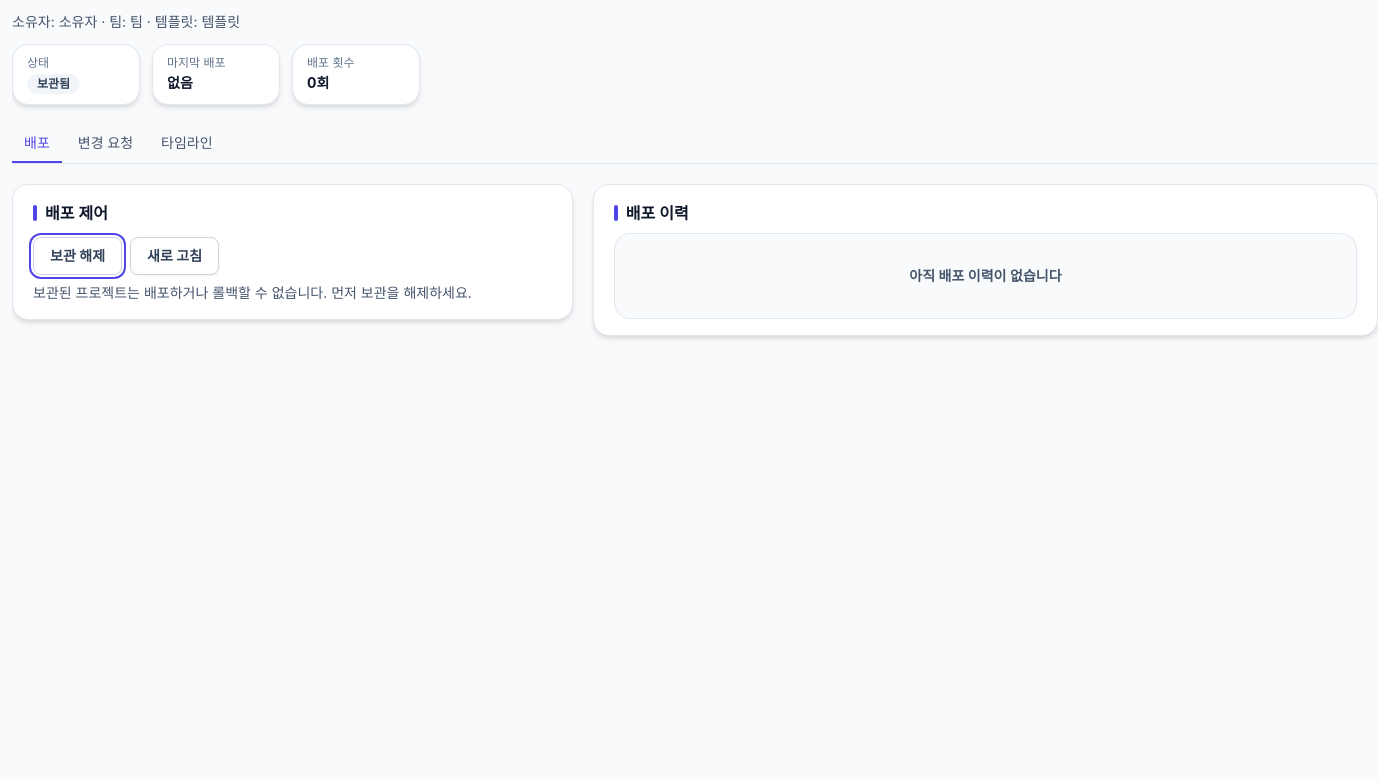
Test: an open confirmation does not outlive the control › a re-read that shows the project un-archived closes it for good: a later archive does not bring it back
The image size is (1378, 780).
Press Enter
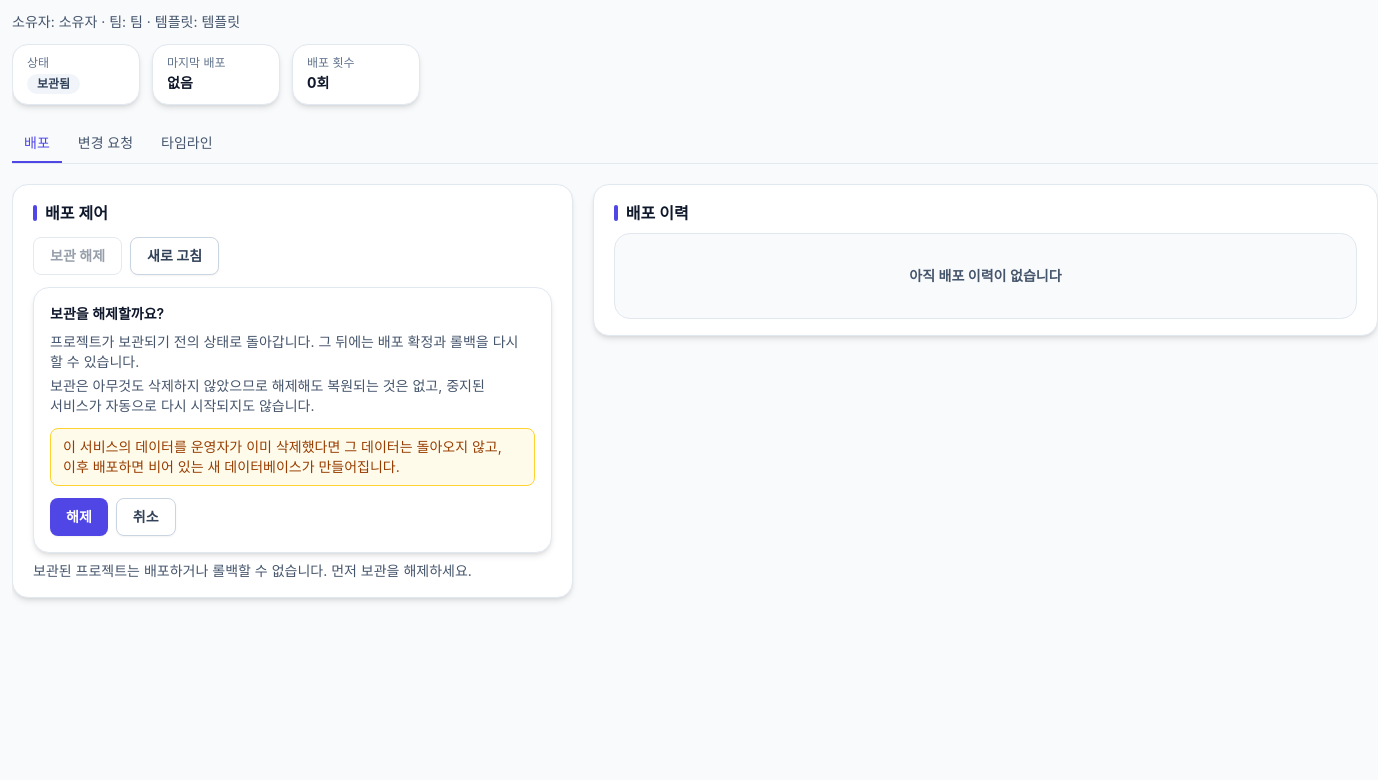
Click the button "새로 고침". click: (175, 256)
box: [130, 237, 219, 275]
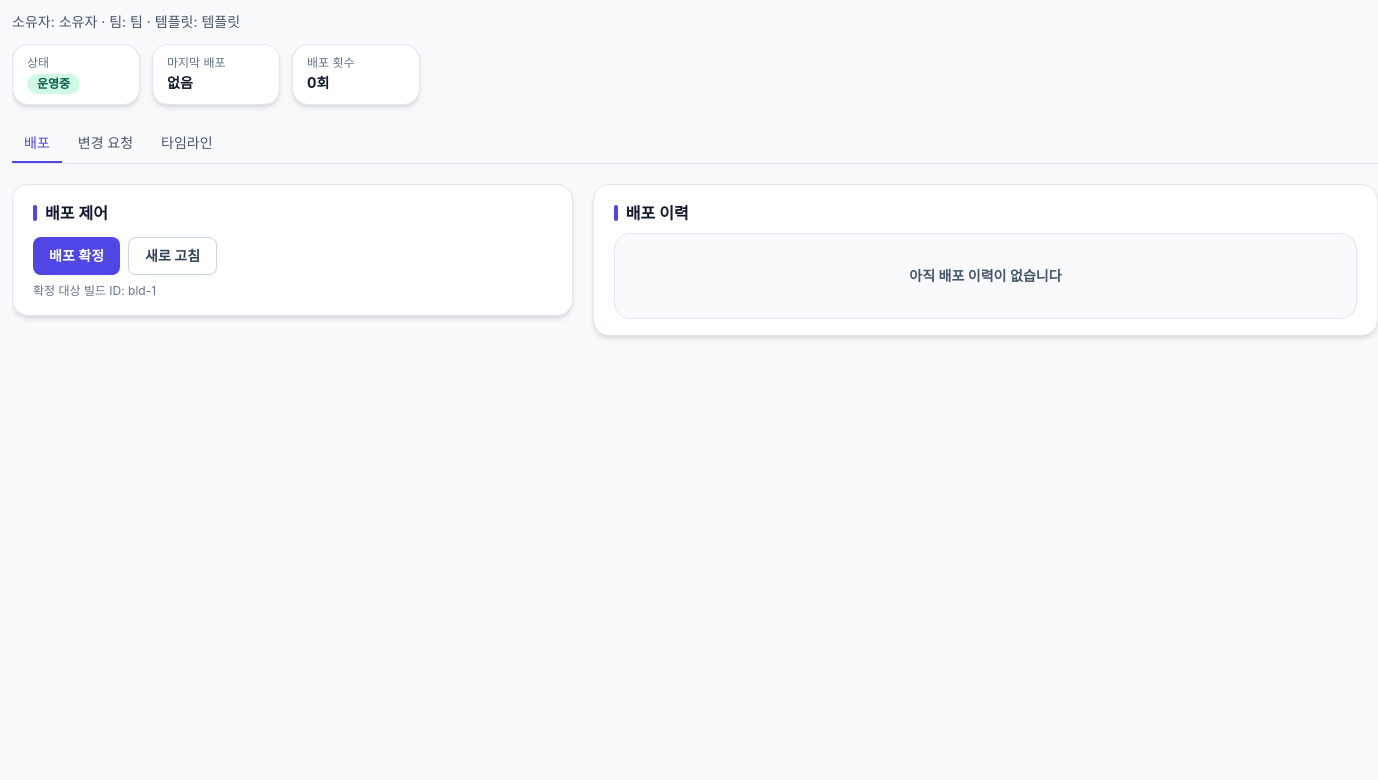
Result: the button "보관 해제" is gone
Result: the text "보관을 해제할까요?" is gone
Click the button "새로 고침". click: (173, 256)
box: [128, 237, 217, 275]
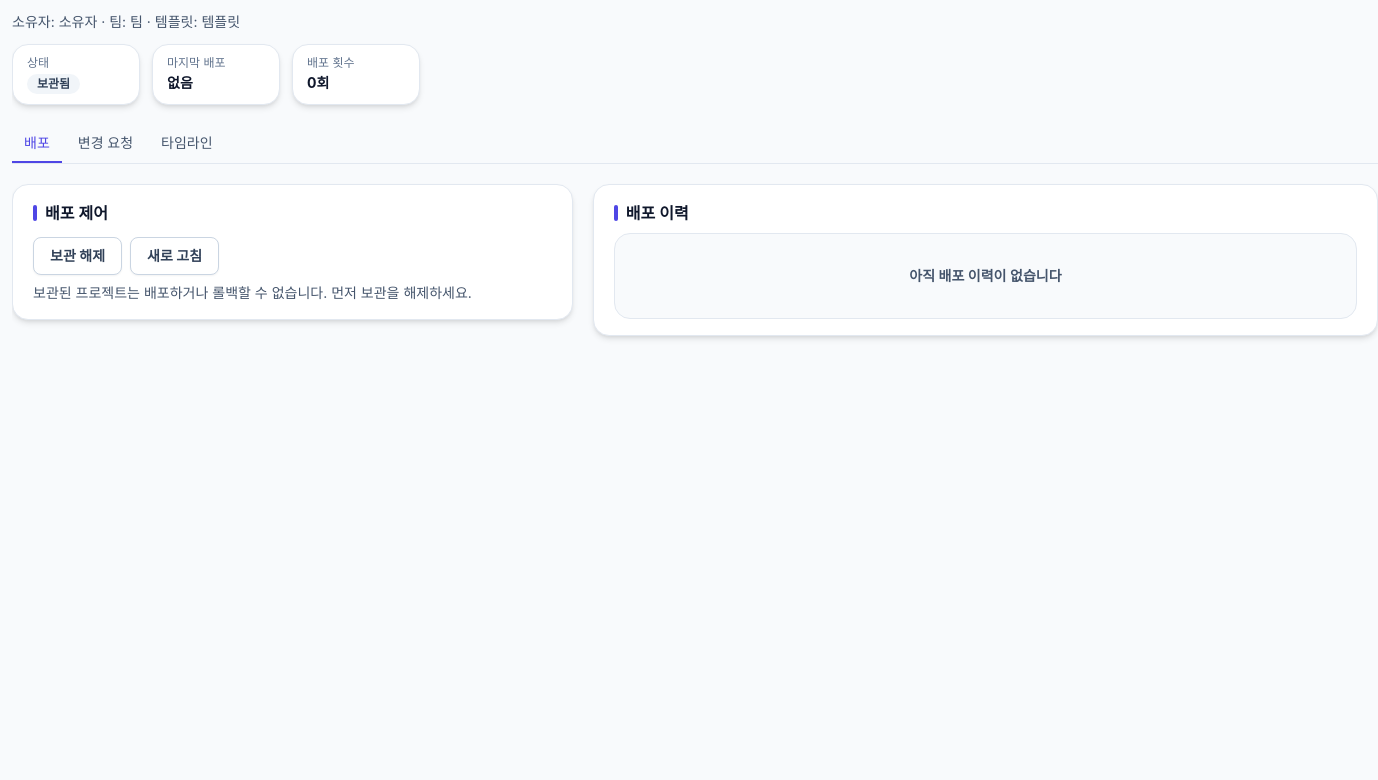
Expected: the text "보관을 해제할까요?" is not shown
Result: the button "보관 해제" is enabled at [33, 237, 122, 275]
